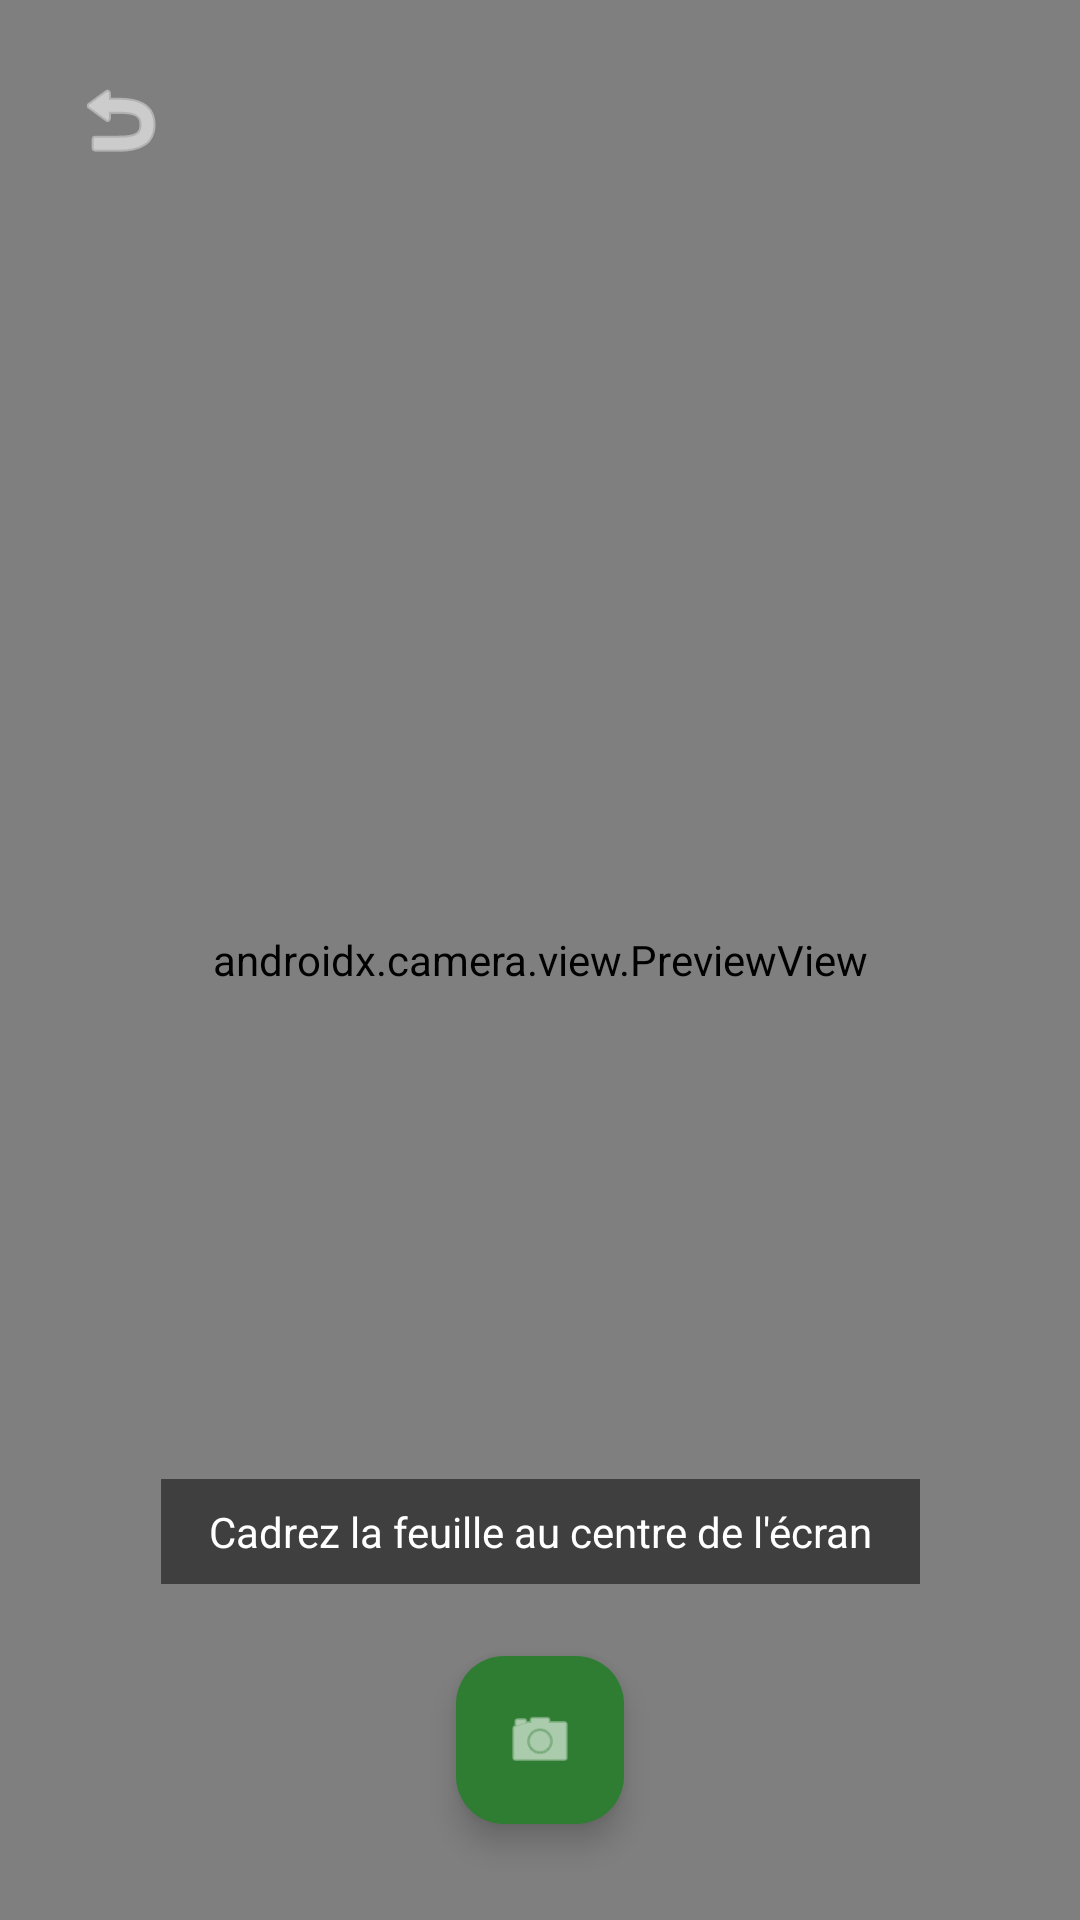

Where to tap for icons on this 1080 x 1920 app screen, as (x=x, y=y):
Prendre une photo: (x=540, y=1740)
Retour au tableau de bord: (x=121, y=121)
